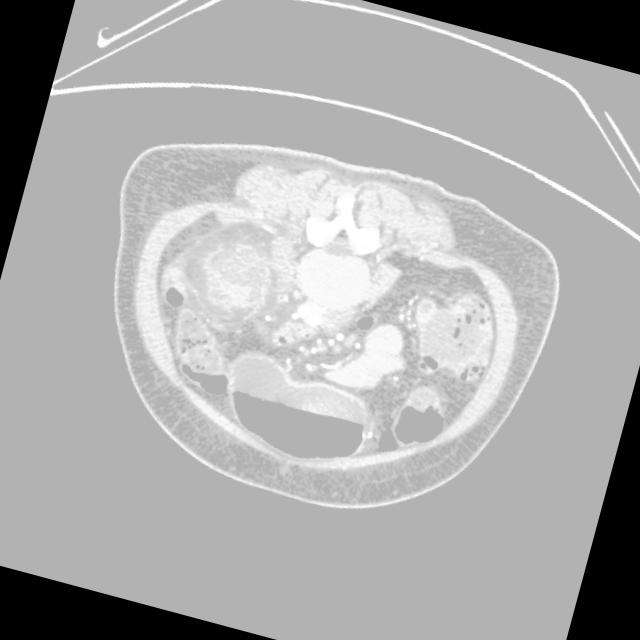TUMOR: (139, 202, 404, 391)
